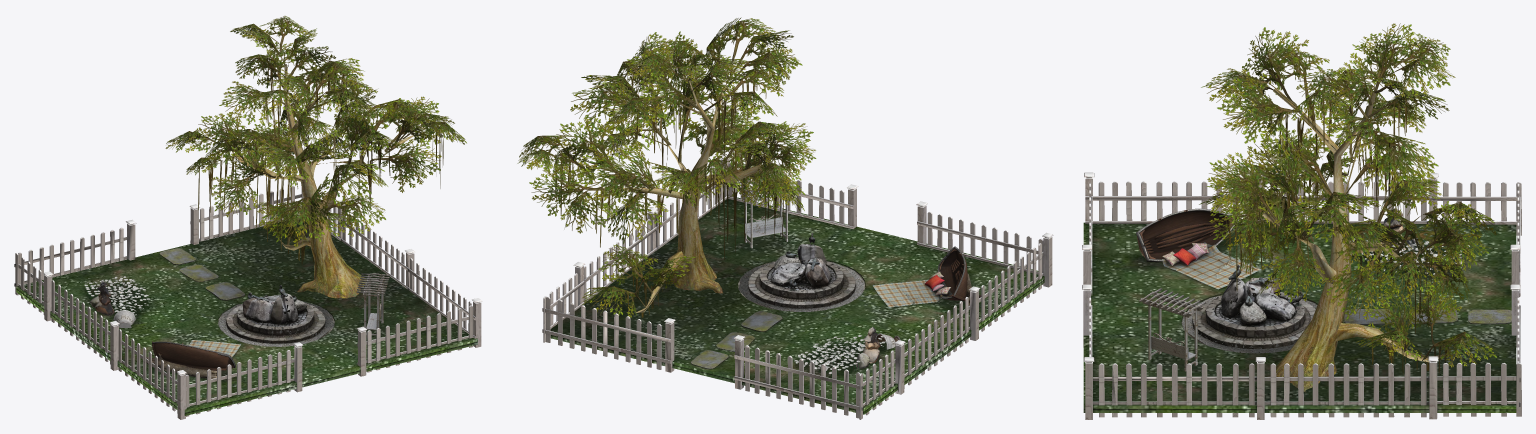
File: grama.glb
The picture shows the model from 3 angles, left to right: view 1: azimuth 30°, elevation 25°; view 2: azimuth 150°, elevation 25°; view 3: azimuth 270°, elevation 25°; orthographic projection. The views are drawn at different scales.
Parts seen in each view (by area): view 1: treeobj:prim0, ground, fence9, fence7, mmGroup0, boat:prim2, prim0, rocks, bench:prim4, gravel; view 2: treeobj:prim0, ground, fence9, fence7, mmGroup0, boat:prim2, prim0, rocks, bench:prim4, gravel; view 3: treeobj:prim0, ground, fence7, fence9, mmGroup0, boat:prim2, bench:prim4, rocks, prim0, gravel.
Boxes of the visible parts, <box> form: treeobj:prim0: <box>165,16,466,298</box>; ground: <box>16,217,477,415</box>; fence9: <box>14,220,303,419</box>; fence7: <box>189,185,482,376</box>; mmGroup0: <box>218,285,334,343</box>; boat:prim2: <box>146,340,240,378</box>; prim0: <box>84,276,150,327</box>; rocks: <box>159,248,245,300</box>; bench:prim4: <box>356,273,389,337</box>; gravel: <box>218,301,333,346</box>; treeobj:prim0: <box>517,17,816,317</box>; ground: <box>550,197,1044,414</box>; fence9: <box>734,201,1053,419</box>; fence7: <box>542,154,858,372</box>; mmGroup0: <box>738,233,865,310</box>; boat:prim2: <box>873,246,981,307</box>; prim0: <box>794,327,900,376</box>; rocks: <box>691,311,782,369</box>; bench:prim4: <box>739,183,793,248</box>; gravel: <box>738,261,864,311</box>; treeobj:prim0: <box>1199,23,1497,391</box>; ground: <box>1083,222,1516,412</box>; fence7: <box>1082,284,1521,419</box>; fence9: <box>1082,172,1521,296</box>; mmGroup0: <box>1182,265,1315,350</box>; boat:prim2: <box>1136,208,1261,289</box>; bench:prim4: <box>1139,288,1205,371</box>; rocks: <box>1344,308,1511,324</box>; prim0: <box>1350,209,1469,274</box>; gravel: <box>1181,294,1317,353</box>.
Size of the model in its own units: 30.74 by 21.13 by 24.55.
Materials: 26 (24 with a texture image).
